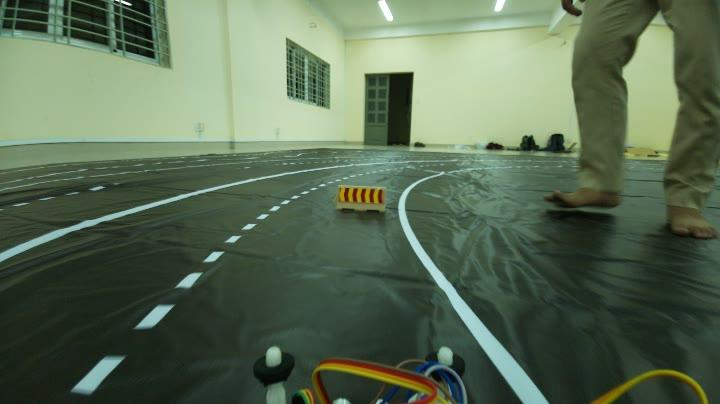roadblock: (332, 180, 390, 216)
